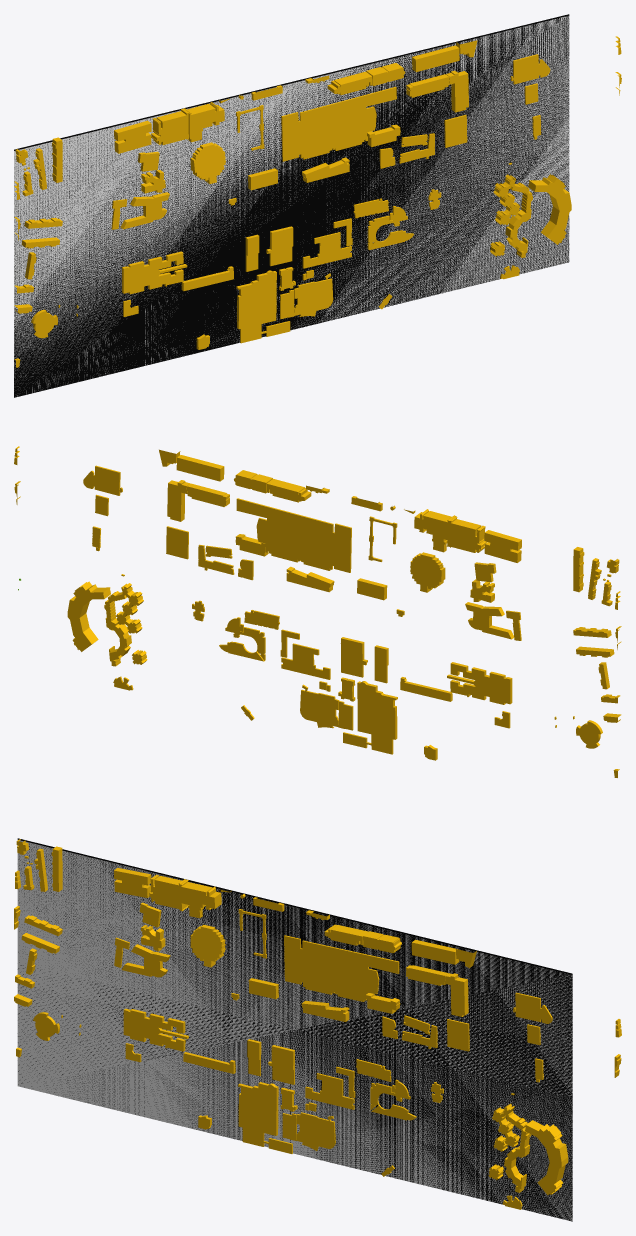
Rendered from existing_trees_01.glb.
The picture shows the model from 3 angles, top to bottom: view 1: azimuth 30°, elevation 25°; view 2: azimuth 150°, elevation 25°; view 3: azimuth 330°, elevation 25°; orthographic projection.
Parts seen in each view (by area): view 1: Layer 04, base, existing_building - Copy; view 2: existing_building - Copy; view 3: base, Layer 04, existing_building - Copy.
Boxes of the visible parts, bbox=[...] form: Layer 04: bbox=[14, 14, 569, 397]; base: bbox=[14, 16, 569, 396]; existing_building - Copy: bbox=[14, 36, 621, 367]; existing_building - Copy: bbox=[14, 446, 621, 777]; base: bbox=[17, 840, 572, 1221]; Layer 04: bbox=[17, 838, 572, 1221]; existing_building - Copy: bbox=[14, 839, 621, 1209].
Bounding box in the file's own units: 1079 × 427 × 20.85.
